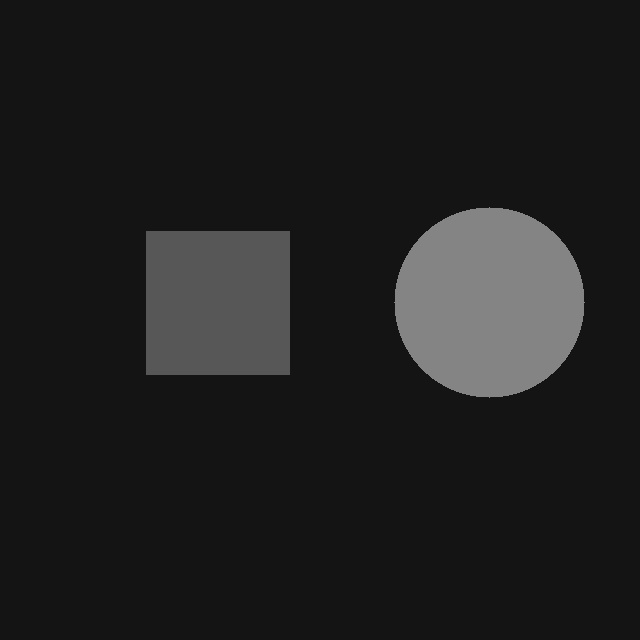circle: (394, 207, 584, 397)
square: (146, 231, 289, 374)
